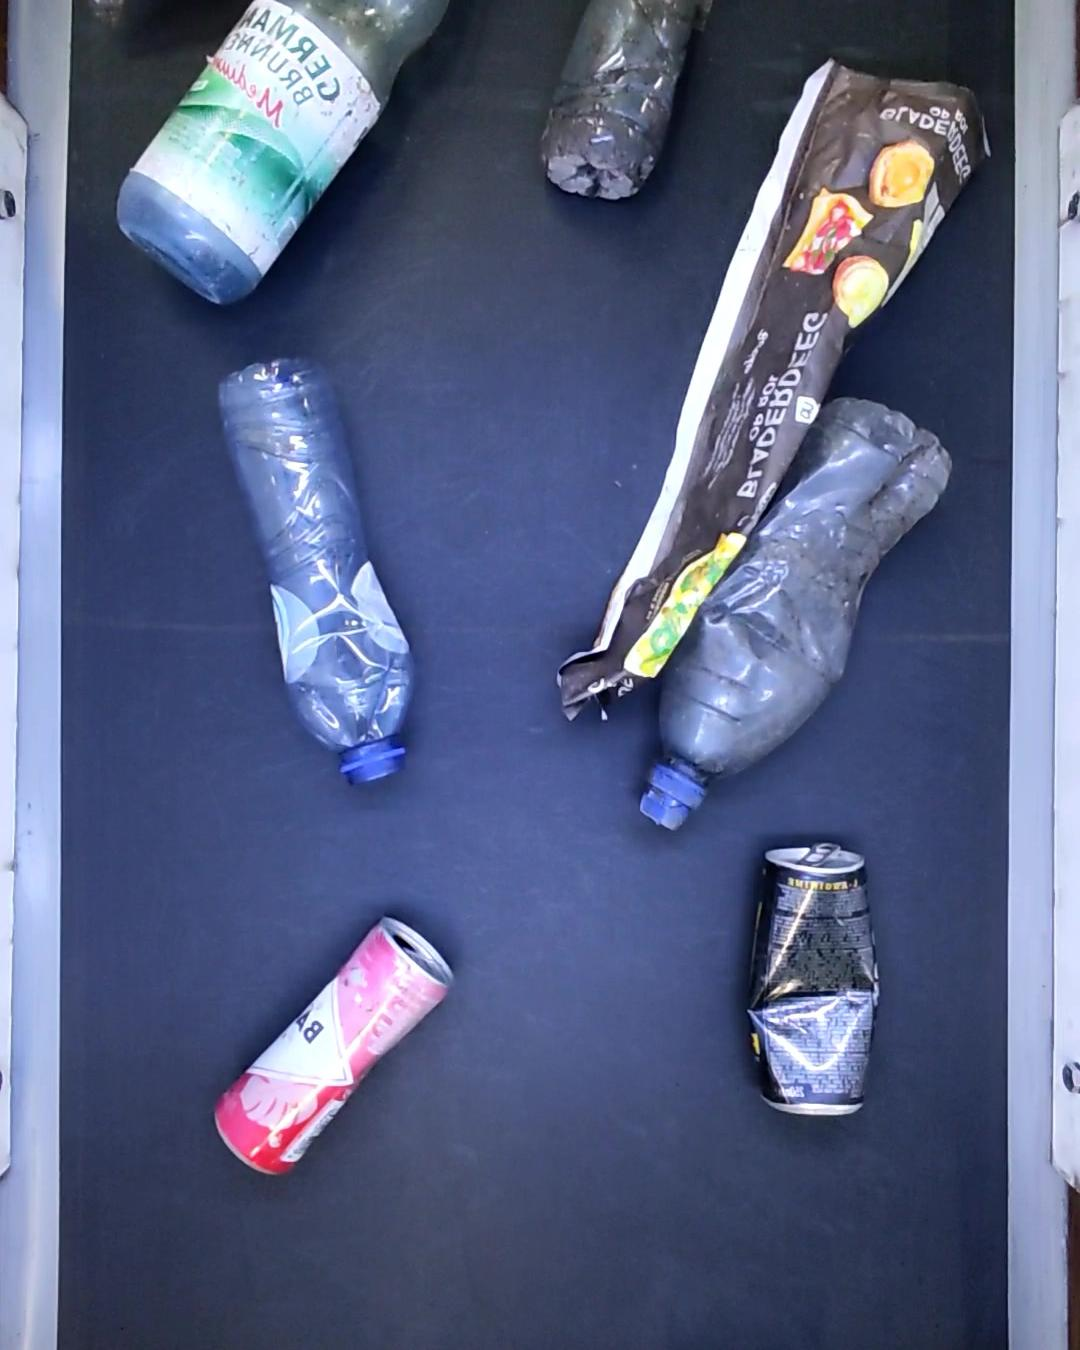Drankblikjes: (216, 912, 457, 1176), (743, 839, 883, 1116)
Drankflessen - 1-2 liter: (636, 397, 955, 828), (112, 0, 455, 305), (219, 350, 415, 789), (539, 0, 715, 197)
Voedselverpakkingen: (552, 60, 992, 730)
